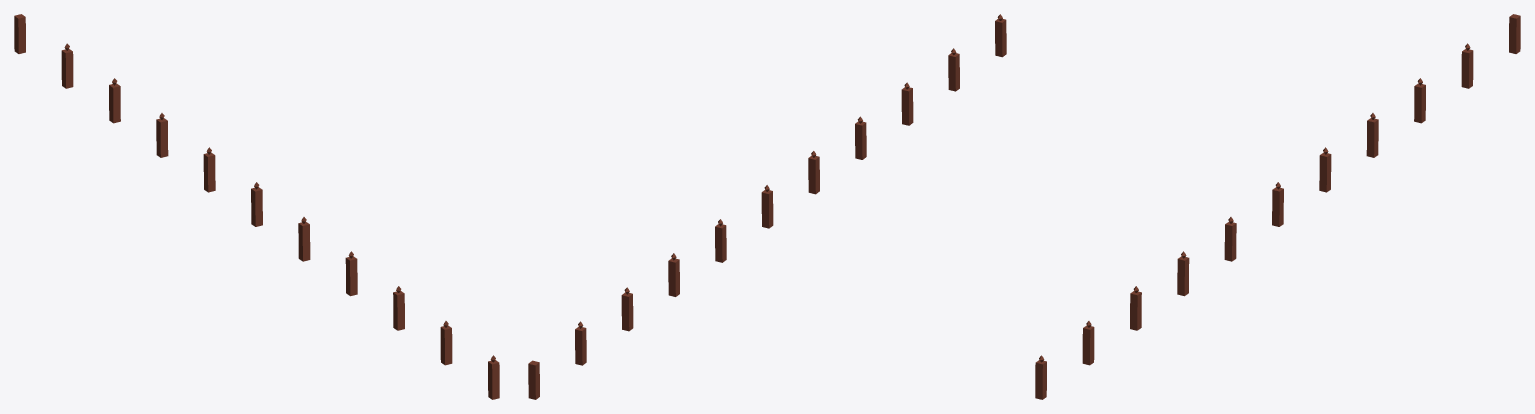
The model's file is libsupports_1.fbx.
The picture shows the model from 3 angles, left to right: view 1: azimuth 30°, elevation 25°; view 2: azimuth 150°, elevation 25°; view 3: azimuth 330°, elevation 25°; orthographic projection.
Visible parts, largest first — view 1: StairRail_Decor.006; view 2: StairRail_Decor.006; view 3: StairRail_Decor.006.
Boxes of the visible parts, x1,y1,x2,y2 form: StairRail_Decor.006: (14,14,499,399); StairRail_Decor.006: (528,14,1006,399); StairRail_Decor.006: (1035,14,1520,399).
Bounding box in the file's own units: 83.82 × 469 × 9441.
